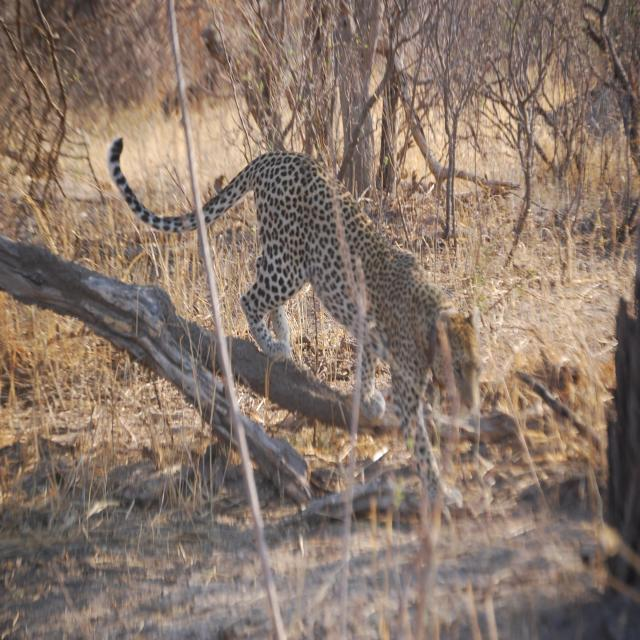Leopard: (108, 120, 496, 422)
